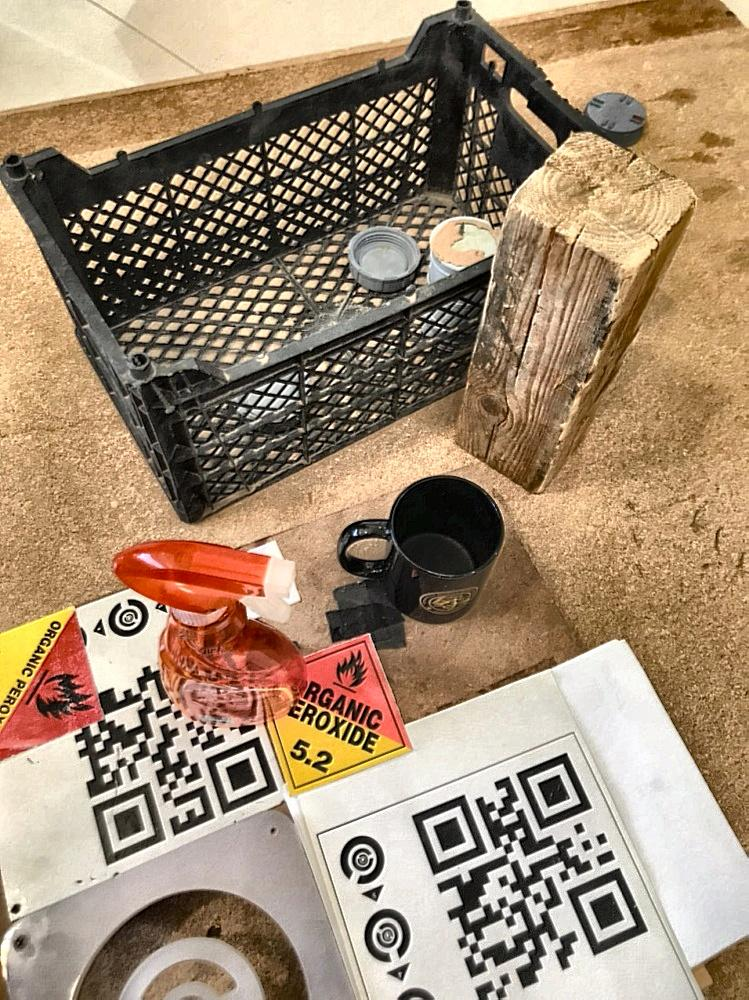organic-peroxide: (270, 636, 411, 798), (1, 605, 108, 768)
